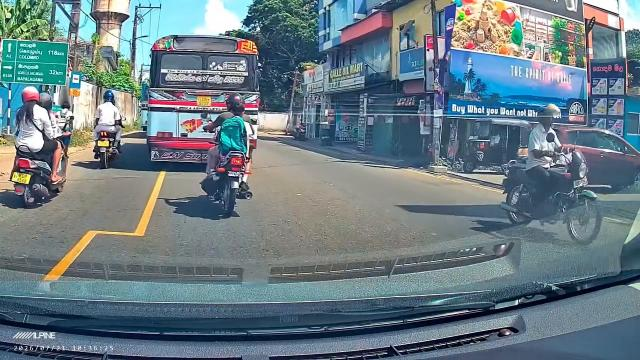illegal overtaking: (96, 89, 127, 166)
